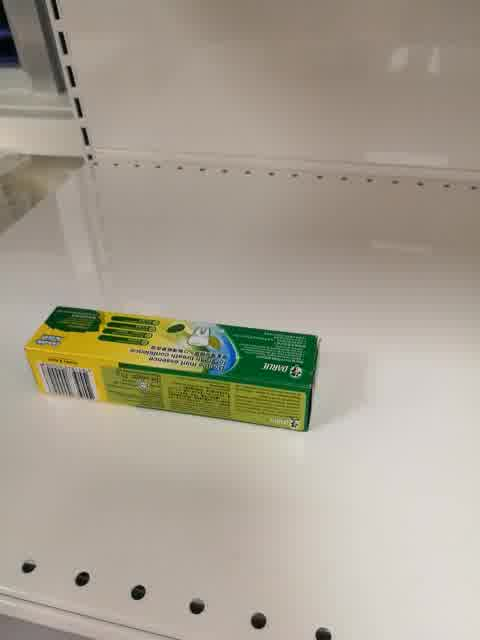toothpaste: (23, 305, 322, 436)
